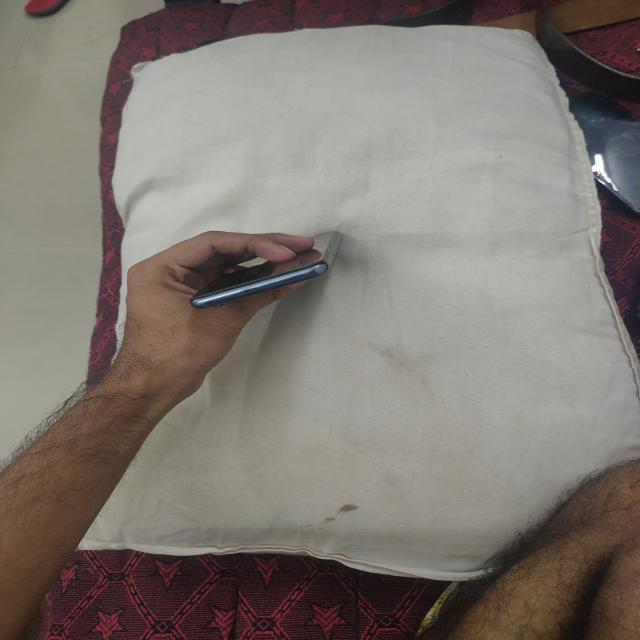Phone: (185, 225, 344, 312)
